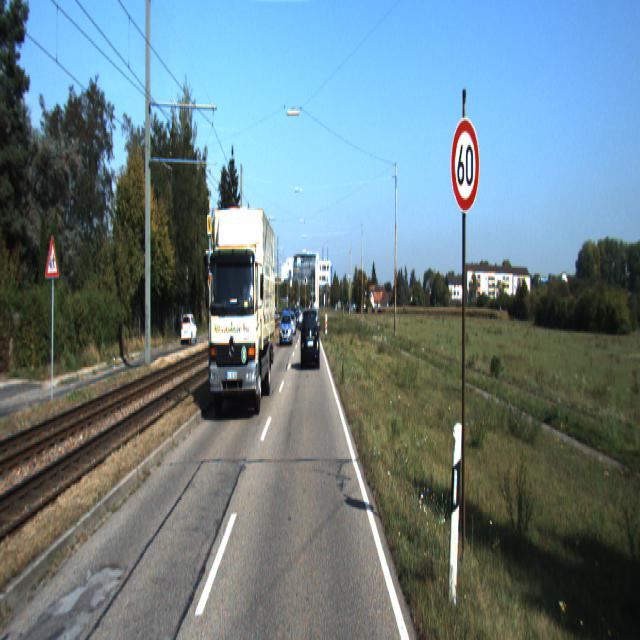Car: (208, 180, 276, 417), (301, 306, 320, 369), (181, 313, 198, 346), (280, 308, 293, 347)
